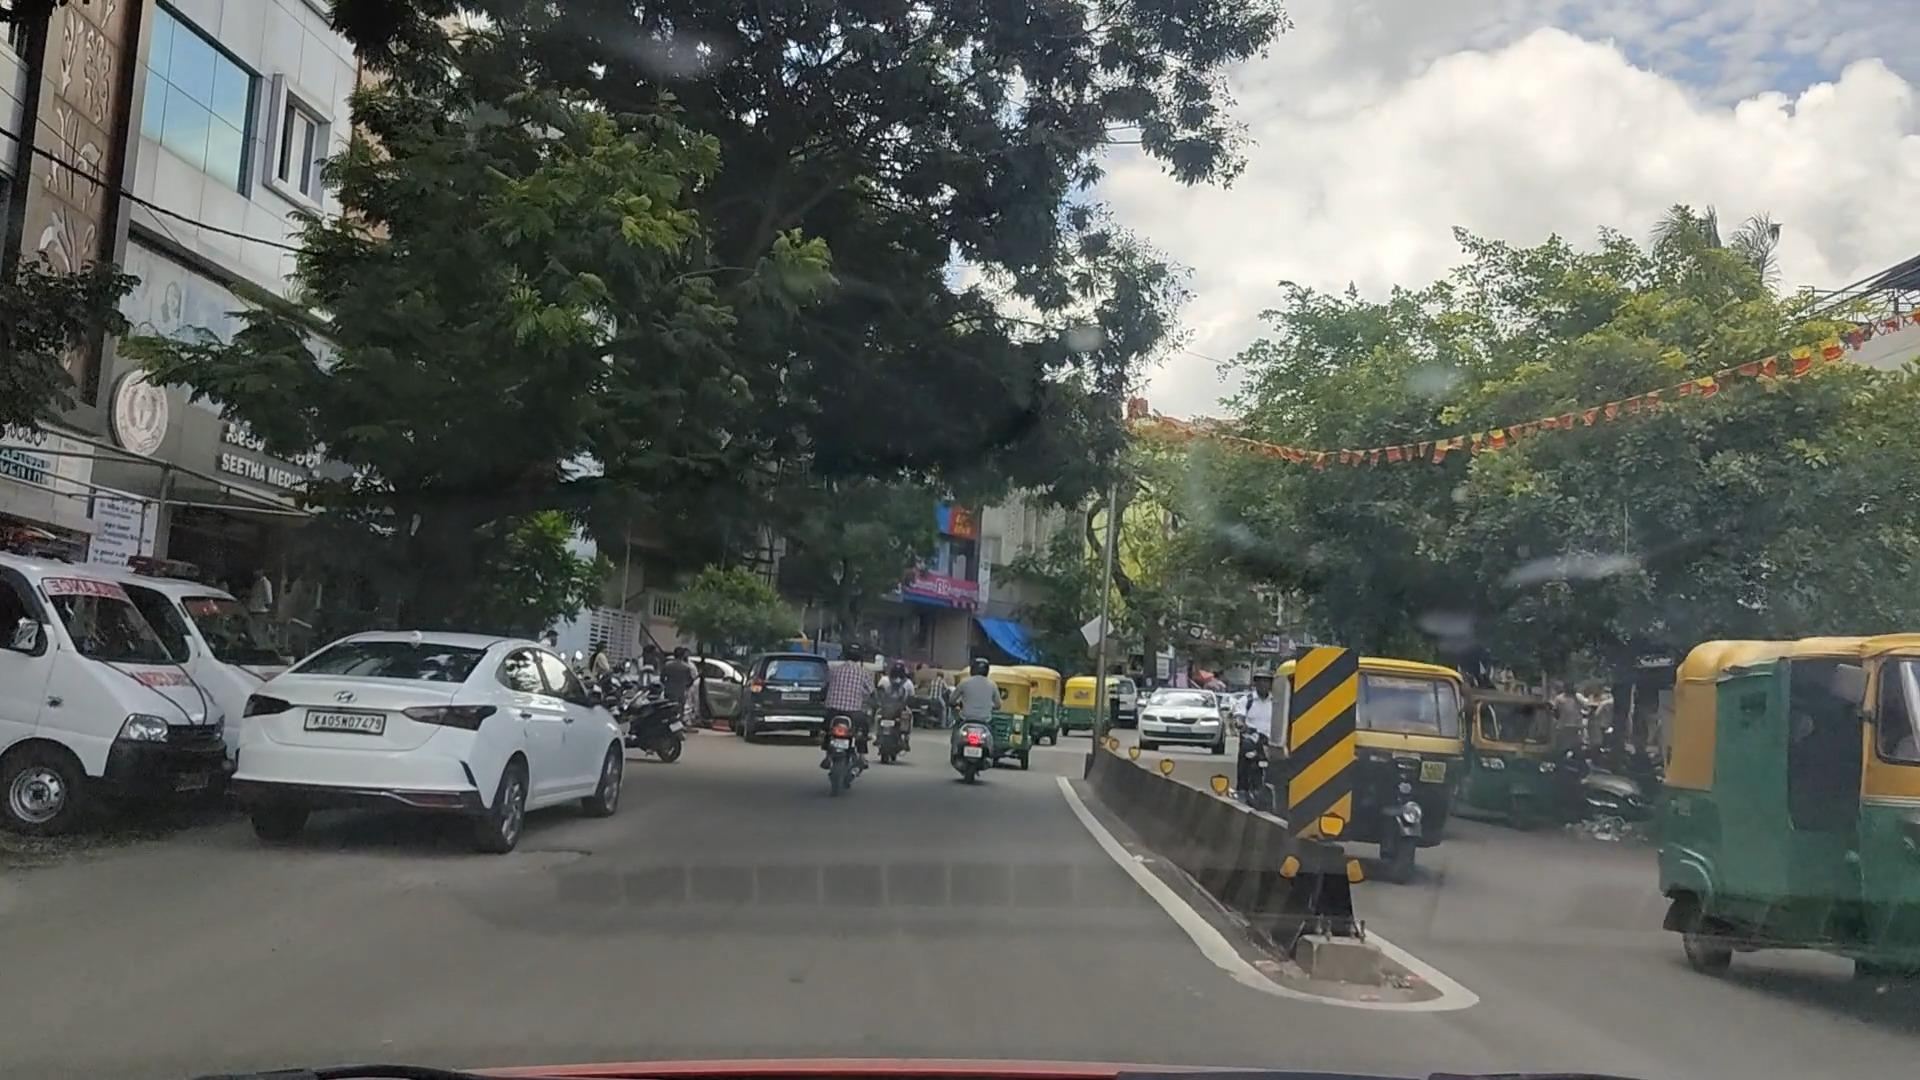LMV: (237, 605, 624, 847), (781, 646, 885, 815), (945, 647, 1001, 785)
